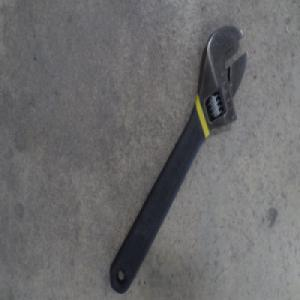AdjustableWrench: (109, 23, 247, 290)
